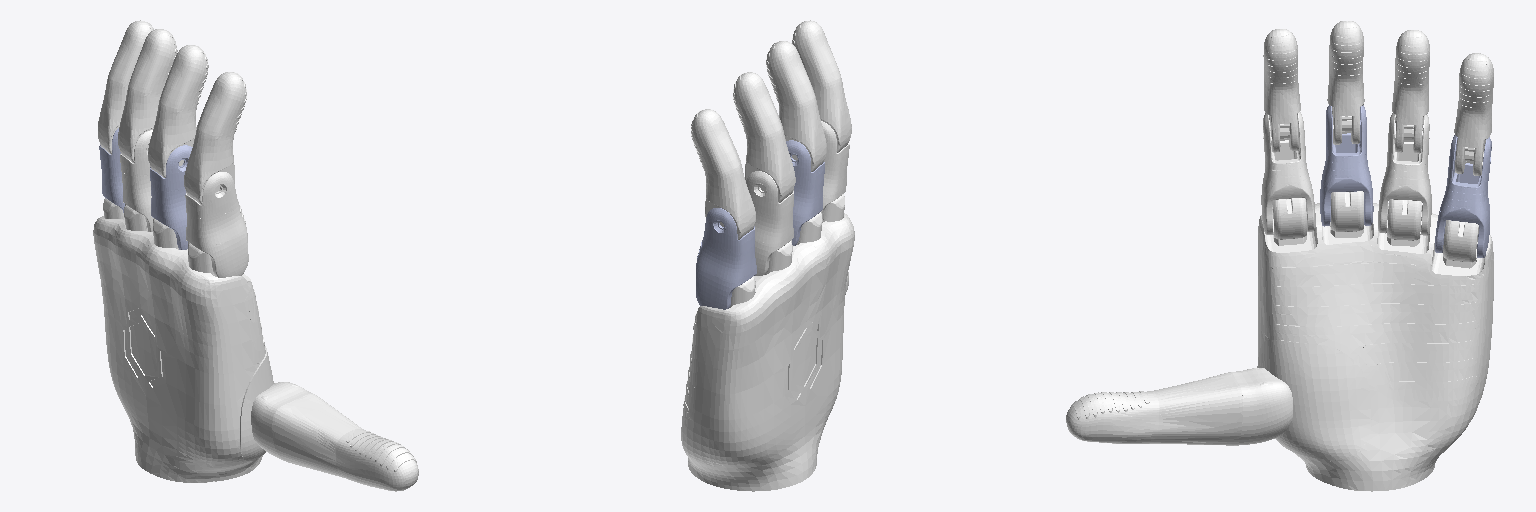
The robot description file, URDF, robot "URDF Final Assembly V13.SLDASM":
<?xml version='1.0' encoding='utf-8'?>
<robot name="URDF Final Assembly V13.SLDASM">
  <link name="Palm">
    <inertial>
      <origin xyz="-0.006004198475 -0.0004982397087 0.05038329322" rpy="0 0 0" />
      <mass value="0.283128265195557" />
      <inertia ixx="0.000287564837192637" ixy="-1.350641947e-06" ixz="2.60789464417926E-05" iyy="0.00018758839367272" iyz="6.922233858e-06" izz="0.00016182184678675" />
    </inertial>
    <visual>
      <origin xyz="0 0 0" rpy="0 0 0" />
      <geometry>
        <mesh filename="meshes/visual/Palm_left.STL" />
      </geometry>
      <material name="">
        <color rgba="1 1 1 1" />
      </material>
    </visual>
    <collision>
      <origin xyz="0 0 0" rpy="0 0 0" />
      <geometry>
        <mesh filename="meshes/collision/palm_left_collide_vhacd.obj" />
      </geometry>
    </collision>
  </link>
  <link name="Index_Proximal">
    <inertial>
      <origin xyz="0.012312 -0.00144 0.015605" rpy="0 0 0" />
      <mass value="0.2557" />
      <inertia ixx="4.2833E-06" ixy="7.57e-09" ixz="-8.0748E-08" iyy="4.5982E-06" iyz="2.8088e-07" izz="1.6265E-06" />
    </inertial>
    <visual>
      <origin xyz="0 0 0" rpy="0 0 0" />
      <geometry>
        <mesh filename="meshes/visual/Index_Proximal_left.STL" />
      </geometry>
      <material name="">
        <color rgba="1 1 1 1" />
      </material>
    </visual>
    <collision>
      <origin xyz="0 0 0" rpy="0 0 0" />
      <geometry>
        <mesh filename="meshes/collision/index_proximal_left_collide_vhacd.obj" />
      </geometry>
    </collision>
  </link>
  <joint name="Index_MCP_Joint" type="revolute">
    <origin xyz="-0.009296324611 -0.03228633069 0.1043424847" rpy="-0.04713285847 -0.1929221095 0.07452510723" />
    <parent link="Palm" />
    <child link="Index_Proximal" />
    <axis xyz="-0 0.9956409868 0.09326856646" />
    <limit lower="0" upper="1.774" effort="0" velocity="0" />
  </joint>
  <link name="Index_Distal">
    <inertial>
      <origin xyz="0.002458533064 4.187816555e-07 0.01899365379" rpy="0 0 0" />
      <mass value="0.162350311115962" />
      <inertia ixx="1.8466183514147E-06" ixy="7.237290067e-12" ixz="-3.4435261146249E-07" iyy="1.98212521922435E-06" iyz="2.184039049e-11" izz="3.32767630758346E-07" />
    </inertial>
    <visual>
      <origin xyz="0 0 0" rpy="0 0 0" />
      <geometry>
        <mesh filename="meshes/visual/Index_Distal.STL" />
      </geometry>
      <material name="">
        <color rgba="1 1 1 1" />
      </material>
    </visual>
    <collision>
      <origin xyz="0 0 0" rpy="0 0 0" />
      <geometry>
        <mesh filename="meshes/collision/index_distal_collide_vhacd.obj" />
      </geometry>
    </collision>
  </link>
  <joint name="Index_PIP_Joint" type="revolute">
    <origin xyz="0.0006205491707 -0.003209529451 0.03413946617" rpy="0.09551814035 0.2104590664 0.02001282243" />
    <parent link="Index_Proximal" />
    <child link="Index_Distal" />
    <axis xyz="0 1 0" />
    <limit lower="0" upper="1.571" effort="0" velocity="0" />
  </joint>
  <link name="Middle_Proximal">
    <inertial>
      <origin xyz="0.01231250812 2.175662858e-05 0.01567062551" rpy="0 0 0" />
      <mass value="0.1255696641629694" />
      <inertia ixx="4.28322654679413E-06" ixy="-6.891900511e-12" ixz="-8.10707532421487E-08" iyy="4.62440324709858E-06" iyz="3.380208565e-11" izz="1.60017622490279E-06" />
    </inertial>
    <visual>
      <origin xyz="0 0 0" rpy="0 0 0" />
      <geometry>
        <mesh filename="meshes/visual/Middle_Proximal.STL" />
      </geometry>
      <material name="">
        <color rgba="0.792156862745098 0.819607843137255 0.933333333333333 1" />
      </material>
    </visual>
    <collision>
      <origin xyz="0 0 0" rpy="0 0 0" />
      <geometry>
        <mesh filename="meshes/collision/middle_proximal_collide_vhacd.obj" />
      </geometry>
    </collision>
  </link>
  <joint name="Middle_MCP_Joint" type="revolute">
    <origin xyz="-0.0120427537 -0.009449337915 0.1062508813" rpy="0.0009147286853 -0.1802730583 0.0465850255" />
    <parent link="Palm" />
    <child link="Middle_Proximal" />
    <axis xyz="0 1 0" />
    <limit lower="0" upper="1774" effort="0" velocity="0" />
  </joint>
  <link name="Middle_Distal">
    <inertial>
      <origin xyz="0.002458531517 4.193058772e-07 0.01899365422" rpy="0 0 0" />
      <mass value="0.10862350138399462" />
      <inertia ixx="1.84661785055326E-06" ixy="7.221273274e-12" ixz="-3.44352616543183E-07" iyy="1.98212468335388E-06" iyz="2.190177412e-11" izz="3.32767571423503E-07" />
    </inertial>
    <visual>
      <origin xyz="0 0 0" rpy="0 0 0" />
      <geometry>
        <mesh filename="meshes/visual/Middle_Distal.STL" />
      </geometry>
      <material name="">
        <color rgba="1 1 1 1" />
      </material>
    </visual>
    <collision>
      <origin xyz="0 0 0" rpy="0 0 0" />
      <geometry>
        <mesh filename="meshes/collision/middle_distal_collide_vhacd.obj" />
      </geometry>
    </collision>
  </link>
  <joint name="Middle_PIP_Joint" type="revolute">
    <origin xyz="0.0006205491707 -1.14e-05 0.03429" rpy="0 0.189617527172128 0" />
    <parent link="Middle_Proximal" />
    <child link="Middle_Distal" />
    <axis xyz="0 1 0" />
    <limit lower="0" upper="1.571" effort="0" velocity="0" />
  </joint>
  <link name="Ring_Proximal">
    <inertial>
      <origin xyz="0.01231252075 2.178237186e-05 0.01567069324" rpy="0 0 0" />
      <mass value=".1255697387508071" />
      <inertia ixx="4.28323805639626E-06" ixy="-1.011764463e-11" ixz="-8.10600099492174E-08" iyy="4.62442001199592E-06" iyz="4.760889312e-11" izz="1.60017993990507E-06" />
    </inertial>
    <visual>
      <origin xyz="0 0 0" rpy="0 0 0" />
      <geometry>
        <mesh filename="meshes/visual/Ring_Proximal.STL" />
      </geometry>
      <material name="">
        <color rgba="1 1 1 1" />
      </material>
    </visual>
    <collision>
      <origin xyz="0 0 0" rpy="0 0 0" />
      <geometry>
        <mesh filename="meshes/collision/ring_proximal_collide_vhacd.obj" />
      </geometry>
    </collision>
  </link>
  <joint name="Ring_MCP_Joint" type="revolute">
    <origin xyz="-0.01168477424 0.01335626318 0.1027512591" rpy="-0.0459314437 -0.1817804613 -0.0190423185" />
    <parent link="Palm" />
    <child link="Ring_Proximal" />
    <axis xyz="0 1 0" />
    <limit lower="0" upper="1.774" effort="0" velocity="0" />
  </joint>
  <link name="Ring_Distal">
    <inertial>
      <origin xyz="0.002458530751 4.182757924e-07 0.01899366179" rpy="0 0 0" />
      <mass value="0.10862350282783975" />
      <inertia ixx="1.84661792068038E-06" ixy="7.251218505e-12" ixz="-3.44352852865657E-07" iyy="1.98212484891192E-06" iyz="2.164675917e-11" izz="3.32767548883008E-07" />
    </inertial>
    <visual>
      <origin xyz="0 0 0" rpy="0 0 0" />
      <geometry>
        <mesh filename="meshes/visual/Ring_Distal.STL" />
      </geometry>
      <material name="">
        <color rgba="1 1 1 1" />
      </material>
    </visual>
    <collision>
      <origin xyz="0 0 0" rpy="0 0 0" />
      <geometry>
        <mesh filename="meshes/collision/ring_distal_collide_vhacd.obj" />
      </geometry>
    </collision>
  </link>
  <joint name="Ring_PIP_Joint" type="revolute">
    <origin xyz="0.0006205491707 1.14e-05 0.03429" rpy="0 0.197449031308958 0" />
    <parent link="Ring_Proximal" />
    <child link="Ring_Distal" />
    <axis xyz="0 1 0" />
    <limit lower="0" upper="1.571" effort="0" velocity="0" />
  </joint>
  <link name="Pinky_Proximal">
    <inertial>
      <origin xyz="0.01231248979 2.179876626e-05 0.01567073156" rpy="0 0 0" />
      <mass value="0.1255698137333334" />
      <inertia ixx="4.28327141651743E-06" ixy="-1.177930087e-11" ixz="-8.10692182361396E-08" iyy="4.62445427227366E-06" iyz="4.143609231e-11" izz="1.60018235924362E-06" />
    </inertial>
    <visual>
      <origin xyz="0 0 0" rpy="0 0 0" />
      <geometry>
        <mesh filename="meshes/visual/Pinky_Proximal.STL" />
      </geometry>
      <material name="">
        <color rgba="0.792156862745098 0.819607843137255 0.933333333333333 1" />
      </material>
    </visual>
    <collision>
      <origin xyz="0 0 0" rpy="0 0 0" />
      <geometry>
        <mesh filename="meshes/collision/pinky_proximal_collide_vhacd.obj" />
      </geometry>
    </collision>
  </link>
  <joint name="Pinky_MCP_Joint" type="revolute">
    <origin xyz="-0.007995702726 0.0359407309 0.09528070219" rpy="-0.08457135686 -0.1669532087 -0.09379690391" />
    <parent link="Palm" />
    <child link="Pinky_Proximal" />
    <axis xyz="0 1 0" />
    <limit lower="0" upper="1.774" effort="0" velocity="0" />
  </joint>
  <link name="Pinky_Distal">
    <inertial>
      <origin xyz="0.002458533165 4.167613492e-07 0.01899366625" rpy="0 0 0" />
      <mass value="0.1162350966741739" />
      <inertia ixx="1.84661928481475E-06" ixy="7.250168674e-12" ixz="-3.44352811897793E-07" iyy="1.98212629187236E-06" iyz="2.147998569e-11" izz="3.32767712964309E-07" />
    </inertial>
    <visual>
      <origin xyz="0 0 0" rpy="0 0 0" />
      <geometry>
        <mesh filename="meshes/visual/Pinky_Distal.STL" />
      </geometry>
      <material name="">
        <color rgba="1 1 1 1" />
      </material>
    </visual>
    <collision>
      <origin xyz="0 0 0" rpy="0 0 0" />
      <geometry>
        <mesh filename="meshes/collision/pinky_distal_collide_vhacd.obj" />
      </geometry>
    </collision>
  </link>
  <joint name="Pinky_PIP_Joint" type="revolute">
    <origin xyz="0.00062055 -1.14e-05 0.03429" rpy="0 0.19757 0" />
    <parent link="Pinky_Proximal" />
    <child link="Pinky_Distal" />
    <axis xyz="0 1 0" />
    <limit lower="0" upper="1.571" effort="0" velocity="0" />
  </joint>
  <link name="Metacarpal">
    <inertial>
      <origin xyz="8.596156009e-05 -0.007492267552 0.0006937953851" rpy="0 0 0" />
      <mass value="0.10455898019372728" />
      <inertia ixx="4.15932525574432E-07" ixy="-1.748577897e-09" ixz="5.64846087992515E-10" iyy="1.42106909934071E-07" iyz="3.778813301e-08" izz="3.72950561408405E-07" />
    </inertial>
    <visual>
      <origin xyz="0 0 0" rpy="0 0 0" />
      <geometry>
        <mesh filename="meshes/visual/Metacarpal_left.STL" />
      </geometry>
      <material name="">
        <color rgba="0.792156862745098 0.819607843137255 0.933333333333333 1" />
      </material>
    </visual>
    <collision>
      <origin xyz="0 0 0" rpy="0 0 0" />
      <geometry>
        <mesh filename="meshes/visual/Metacarpal_left.STL" />
      </geometry>
    </collision>
  </link>
  <joint name="Metacarpal_Joint" type="revolute">
    <origin xyz="0.0079928 -0.025391 0.032434" rpy="-0.074184 -0.038292 0.22638" />
    <parent link="Palm" />
    <child link="Metacarpal" />
    <axis xyz="-0 0 1" />
    <limit lower="0" upper="1.774" effort="0" velocity="0" />
  </joint>
  <link name="Thumb">
    <inertial>
      <origin xyz="0.01501089956 6.942219276e-05 -0.006338044757" rpy="0 0 0" />
      <mass value="0.1599545776835582" />
      <inertia ixx="4.33243046860296E-06" ixy="8.3435174e-09" ixz="9.093059581493E-07" iyy="1.62169307375563E-05" iyz="-4.590781105e-09" izz="1.61222265640691E-05" />
    </inertial>
    <visual>
      <origin xyz="0 0 0" rpy="0 0 0" />
      <geometry>
        <mesh filename="meshes/visual/Thumb_left.STL" />
      </geometry>
      <material name="">
        <color rgba="1 1 1 1" />
      </material>
    </visual>
    <collision>
      <origin xyz="0 0 0" rpy="0 0 0" />
      <geometry>
        <mesh filename="meshes/collision/thumb_left_collide_vhacd.obj" />
      </geometry>
    </collision>
  </link>
  <joint name="Thumb_Joint" type="revolute">
    <origin xyz="0 -0.01905 0.0022926" rpy="-0 0 -1.5708" />
    <parent link="Metacarpal" />
    <child link="Thumb" />
    <axis xyz="0 -1 0" />
    <limit lower="0" upper="1.774" effort="0" velocity="0" />
  </joint>
</robot>

--- Facts derived from the render (not from the file) ---
Views: 3 orthographic renders of the robot side by side, from view 1: azimuth 30°, elevation 25°; view 2: azimuth 150°, elevation 25°; view 3: azimuth 270°, elevation 25°.
Robot: URDF Final Assembly V13.SLDASM — 11 links, 10 joints (10 revolute); root link Palm; default pose: all joints at 0.
Visible links, largest first — view 1: Palm, Thumb, Index_Proximal, Index_Distal, Middle_Distal, Ring_Distal, Pinky_Distal, Middle_Proximal, Ring_Proximal, Pinky_Proximal; view 2: Palm, Pinky_Distal, Ring_Distal, Pinky_Proximal, Middle_Distal, Index_Distal, Ring_Proximal, Middle_Proximal, Index_Proximal; view 3: Palm, Thumb, Middle_Distal, Index_Distal, Ring_Distal, Pinky_Distal, Middle_Proximal, Index_Proximal, Pinky_Proximal, Ring_Proximal.
Link boxes in pixels (x1=…): Palm: x1=93, y1=198, x2=273, y2=482; Thumb: x1=251, y1=382, x2=418, y2=491; Index_Proximal: x1=185, y1=172, x2=248, y2=277; Index_Distal: x1=184, y1=72, x2=246, y2=204; Middle_Distal: x1=148, y1=45, x2=208, y2=177; Ring_Distal: x1=118, y1=29, x2=177, y2=162; Pinky_Distal: x1=98, y1=20, x2=153, y2=154; Middle_Proximal: x1=150, y1=145, x2=192, y2=249; Ring_Proximal: x1=120, y1=130, x2=153, y2=231; Pinky_Proximal: x1=99, y1=128, x2=124, y2=212; Palm: x1=681, y1=194, x2=854, y2=491; Pinky_Distal: x1=691, y1=109, x2=755, y2=239; Ring_Distal: x1=733, y1=72, x2=795, y2=202; Pinky_Proximal: x1=696, y1=208, x2=756, y2=309; Middle_Distal: x1=766, y1=41, x2=826, y2=171; Index_Distal: x1=792, y1=20, x2=851, y2=152; Ring_Proximal: x1=746, y1=171, x2=793, y2=275; Middle_Proximal: x1=786, y1=140, x2=824, y2=245; Index_Proximal: x1=821, y1=121, x2=849, y2=218; Palm: x1=1257, y1=191, x2=1493, y2=491; Thumb: x1=1066, y1=368, x2=1292, y2=445; Middle_Distal: x1=1327, y1=21, x2=1364, y2=144; Index_Distal: x1=1263, y1=29, x2=1300, y2=152; Ring_Distal: x1=1392, y1=30, x2=1429, y2=153; Pinky_Distal: x1=1454, y1=53, x2=1493, y2=175; Middle_Proximal: x1=1320, y1=105, x2=1373, y2=226; Index_Proximal: x1=1261, y1=112, x2=1315, y2=234; Pinky_Proximal: x1=1435, y1=135, x2=1491, y2=257; Ring_Proximal: x1=1378, y1=113, x2=1431, y2=235.
Bounding box of the posed robot: 0.0655 × 0.168 × 0.1873 m (x, y, z).
11 mesh visuals loaded from 11 distinct referenced files (11 binary STL).